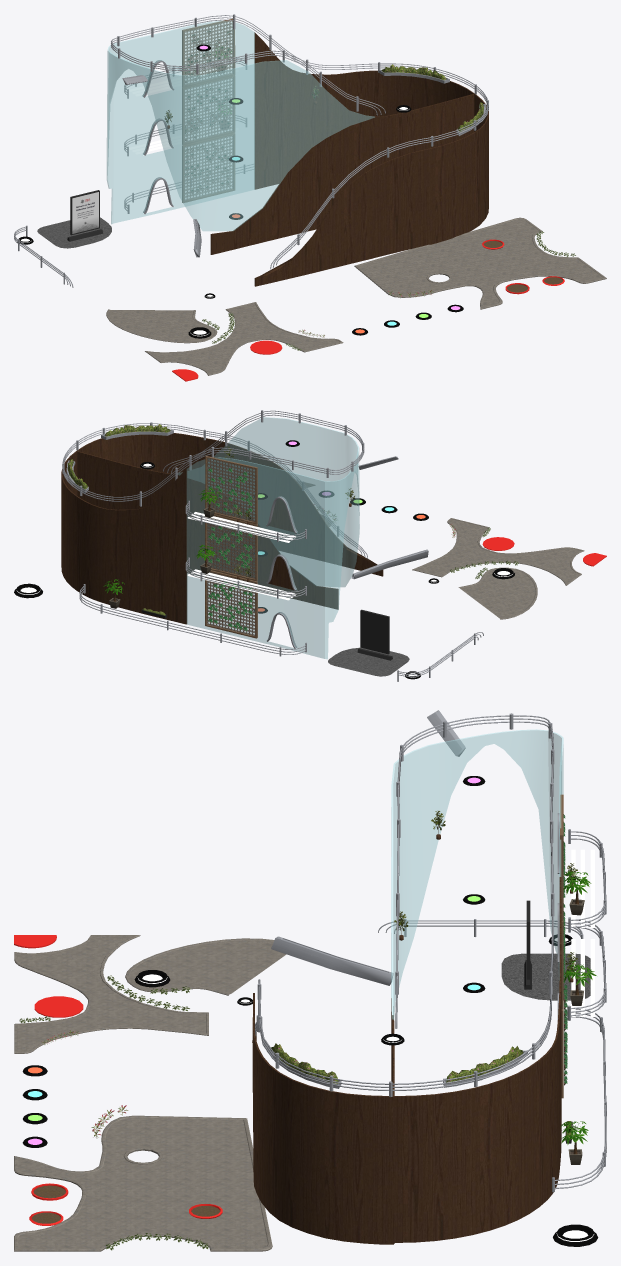
File: ubs_ext_detailing.gltf
3 renders of one model, top to bottom at view 1: azimuth 30°, elevation 25°; view 2: azimuth 150°, elevation 25°; view 3: azimuth 270°, elevation 25°, orthographic. The views are drawn at different scales.
Visible parts, largest first — view 1: Outline_test_mesh.002, Front_porch_paths, Railing_balcony.003, Front_porch_paths.001, Front_door_path, Plane.027Green_wall_frame, Plane.025Green_wall_frame, Plane.026Green_wall_frame, Plane.004, Model_Vertical_posterboard.004, Balcony_door; view 2: Outline_test_mesh.002, Front_porch_paths.001, Railing_balcony.003, Front_door_path, Plane.027Green_wall_frame, Plane.025Green_wall_frame, Plane.026Green_wall_frame, Plane.004, Model_Vertical_posterboard.001, Railing_balcony, Balcony_lights.001, Balcony_lights (+9 smaller); view 3: Outline_test_mesh.002, Front_porch_paths, Front_porch_paths.001, Front_door_path, Railing_balcony.003, Plane.004, Waterfall_object.001, Front_porch_railing, Balcony_lights, Balcony_lights.001, Front_porch_detailing.001, Railing_balcony (+2 smaller).
Part boxes in pixels (x1=…): Outline_test_mesh.002: x1=106, y1=20, x2=488, y2=286; Front_porch_paths: x1=354, y1=217, x2=606, y2=309; Railing_balcony.003: x1=110, y1=15, x2=488, y2=269; Front_porch_paths.001: x1=145, y1=302, x2=343, y2=375; Front_door_path: x1=106, y1=309, x2=217, y2=343; Plane.027Green_wall_frame: x1=182, y1=18, x2=235, y2=87; Plane.025Green_wall_frame: x1=182, y1=133, x2=234, y2=202; Plane.026Green_wall_frame: x1=182, y1=75, x2=234, y2=144; Plane.004: x1=37, y1=217, x2=111, y2=248; Model_Vertical_posterboard.004: x1=72, y1=192, x2=98, y2=233; Balcony_door: x1=142, y1=60, x2=173, y2=214; Outline_test_mesh.002: x1=61, y1=417, x2=383, y2=659; Front_porch_paths.001: x1=412, y1=518, x2=584, y2=585; Railing_balcony.003: x1=62, y1=410, x2=368, y2=558; Front_door_path: x1=458, y1=567, x2=537, y2=619; Plane.027Green_wall_frame: x1=205, y1=456, x2=257, y2=524; Plane.025Green_wall_frame: x1=205, y1=570, x2=257, y2=638; Plane.026Green_wall_frame: x1=205, y1=514, x2=257, y2=581; Plane.004: x1=328, y1=647, x2=409, y2=676; Model_Vertical_posterboard.001: x1=357, y1=609, x2=392, y2=660; Railing_balcony: x1=79, y1=586, x2=306, y2=654; Balcony_lights.001: x1=187, y1=569, x2=296, y2=600; Balcony_lights: x1=187, y1=512, x2=296, y2=542; Outline_test_mesh.002: x1=252, y1=729, x2=563, y2=1243; Front_porch_paths: x1=14, y1=1115, x2=272, y2=1251; Front_porch_paths.001: x1=14, y1=935, x2=208, y2=1053; Front_door_path: x1=125, y1=938, x2=286, y2=995; Railing_balcony.003: x1=255, y1=715, x2=553, y2=1090; Plane.004: x1=501, y1=953, x2=590, y2=1000; Waterfall_object.001: x1=271, y1=936, x2=393, y2=985; Front_porch_railing: x1=378, y1=920, x2=582, y2=937; Balcony_lights: x1=571, y1=849, x2=594, y2=927; Balcony_lights.001: x1=571, y1=939, x2=594, y2=1016; Front_porch_detailing.001: x1=34, y1=996, x2=83, y2=1017; Railing_balcony: x1=554, y1=1008, x2=606, y2=1188.
Size of the model in its own units: 79.94 by 34.77 by 63.52.
26 materials, 15 textured.
